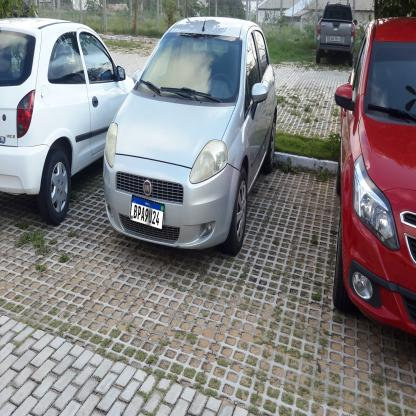PlacaM: (130, 195, 165, 231)
